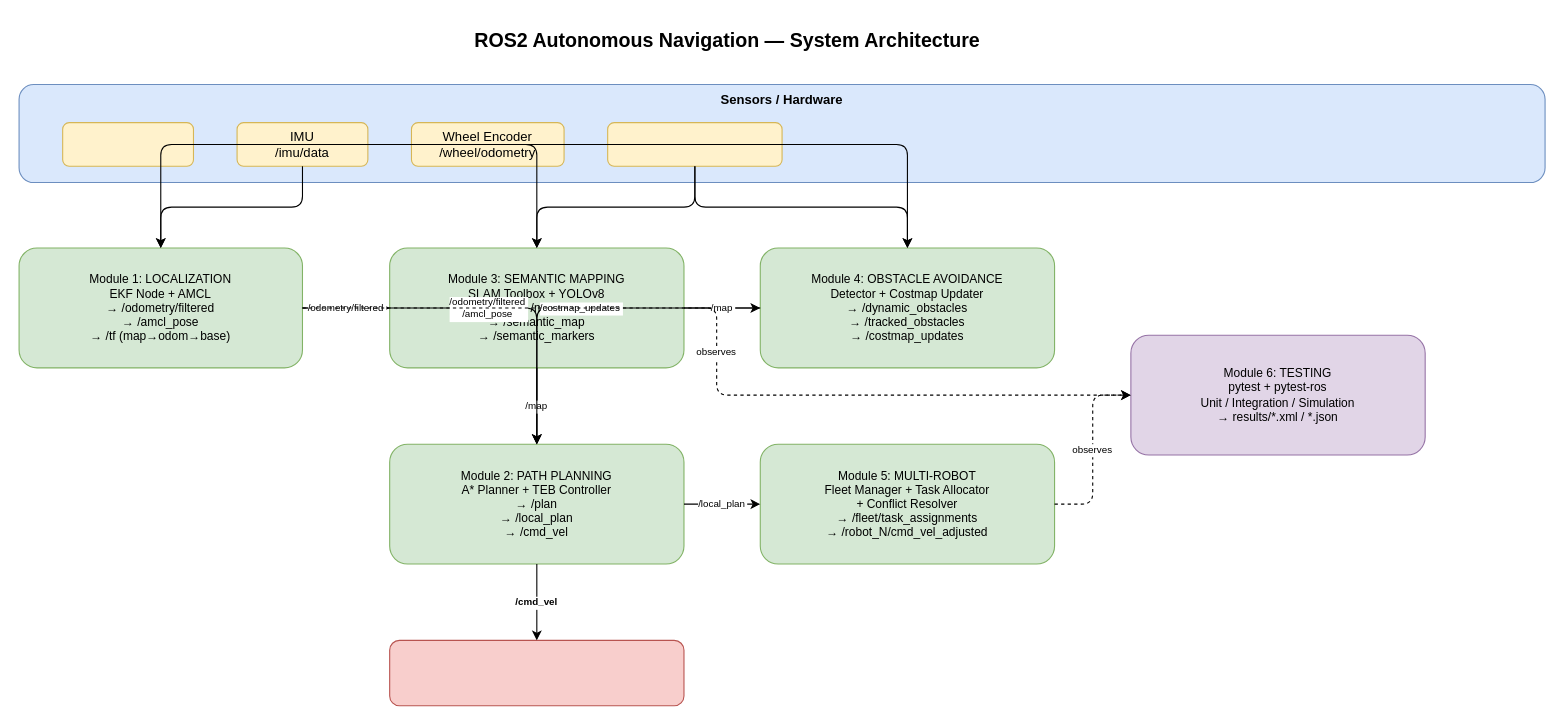
This 1564x725 diagram has some shape labels left out. The centre of each missing label's shape, as x and y in pixels:
LiDAR /scan: point (127, 144)
RGB-D Camera /camera/image_raw: point (694, 144)
Robot Actuators Differential Drive / Motors: point (536, 672)
